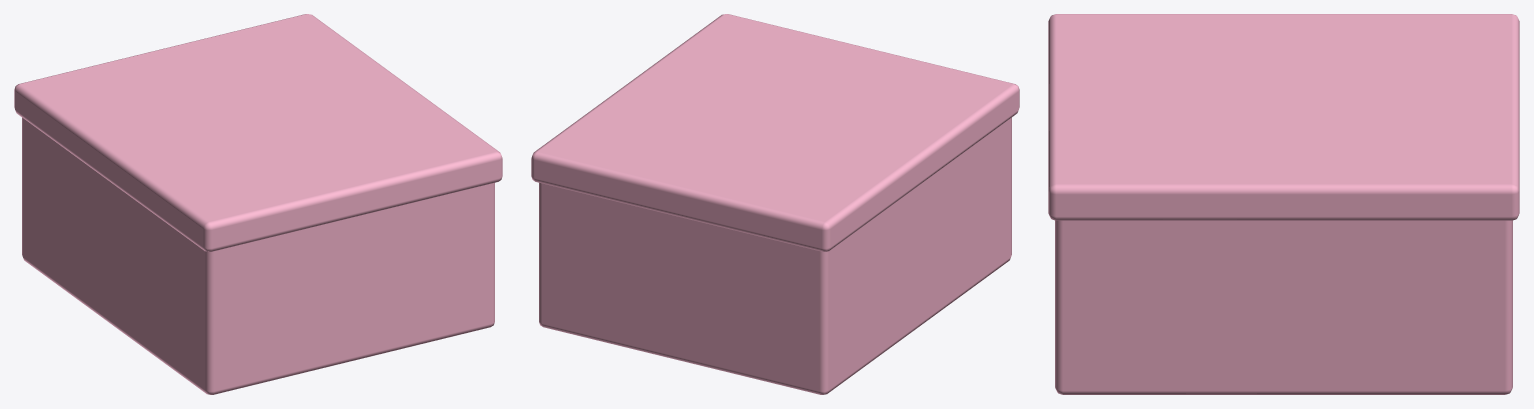
Rendered from storage_box_bookshelf.fbx.
The picture shows the model from 3 angles, left to right: view 1: azimuth 30°, elevation 25°; view 2: azimuth 150°, elevation 25°; view 3: azimuth 270°, elevation 25°; orthographic projection. The views are drawn at different scales.
Parts seen in each view (by area): view 1: storage_box_bookshelf; view 2: storage_box_bookshelf; view 3: storage_box_bookshelf.
Part boxes in pixels (<box>): storage_box_bookshelf: <box>14,14,502,394</box>; storage_box_bookshelf: <box>531,14,1019,394</box>; storage_box_bookshelf: <box>1048,14,1519,394</box>.
Size of the model in its own units: 0.31 by 0.175 by 0.35.
